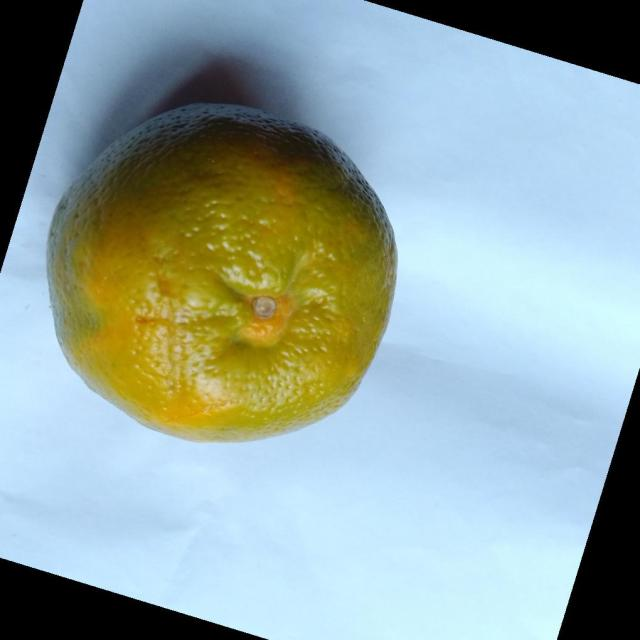fresh orange: (44, 100, 398, 443)
